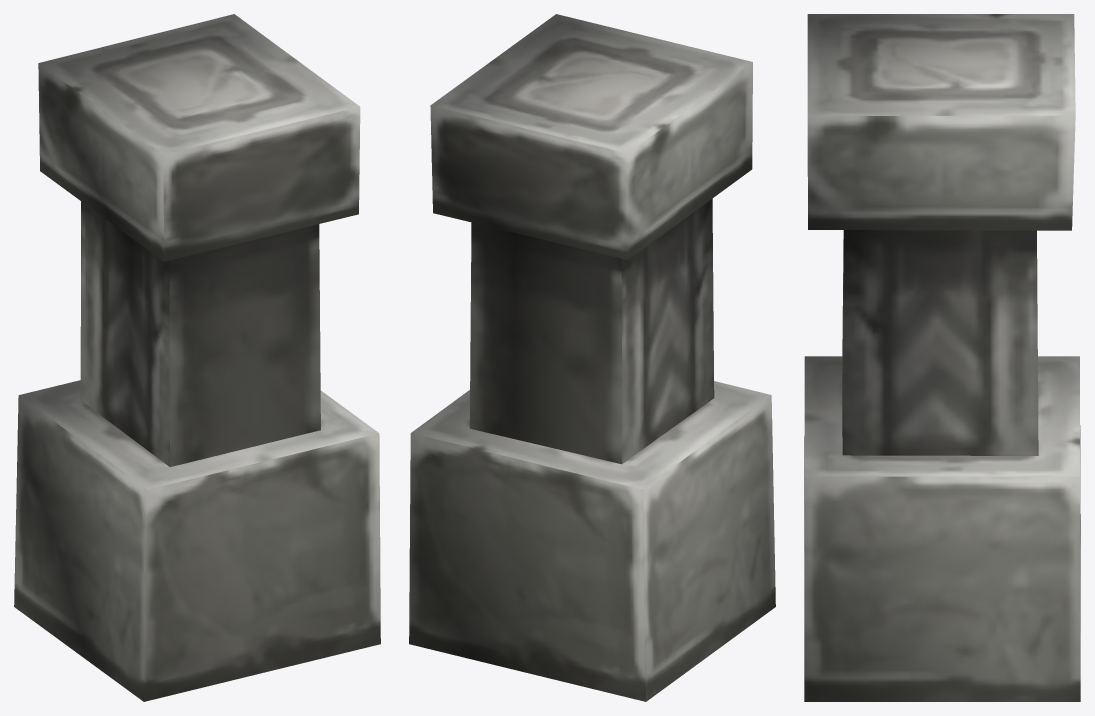
File: unity_dungeon_rail01.FBX
The picture shows the model from 3 angles, left to right: view 1: azimuth 30°, elevation 25°; view 2: azimuth 150°, elevation 25°; view 3: azimuth 270°, elevation 25°; orthographic projection. The views are drawn at different scales.
Visible parts, largest first — view 1: unity_dungeon_rail01; view 2: unity_dungeon_rail01; view 3: unity_dungeon_rail01.
Part boxes in pixels (x1,y1,x2,y2): unity_dungeon_rail01: (14,14,380,701); unity_dungeon_rail01: (409,14,775,701); unity_dungeon_rail01: (804,14,1080,701).
Size of the model in its own units: 1.07 by 2.34 by 1.02.
